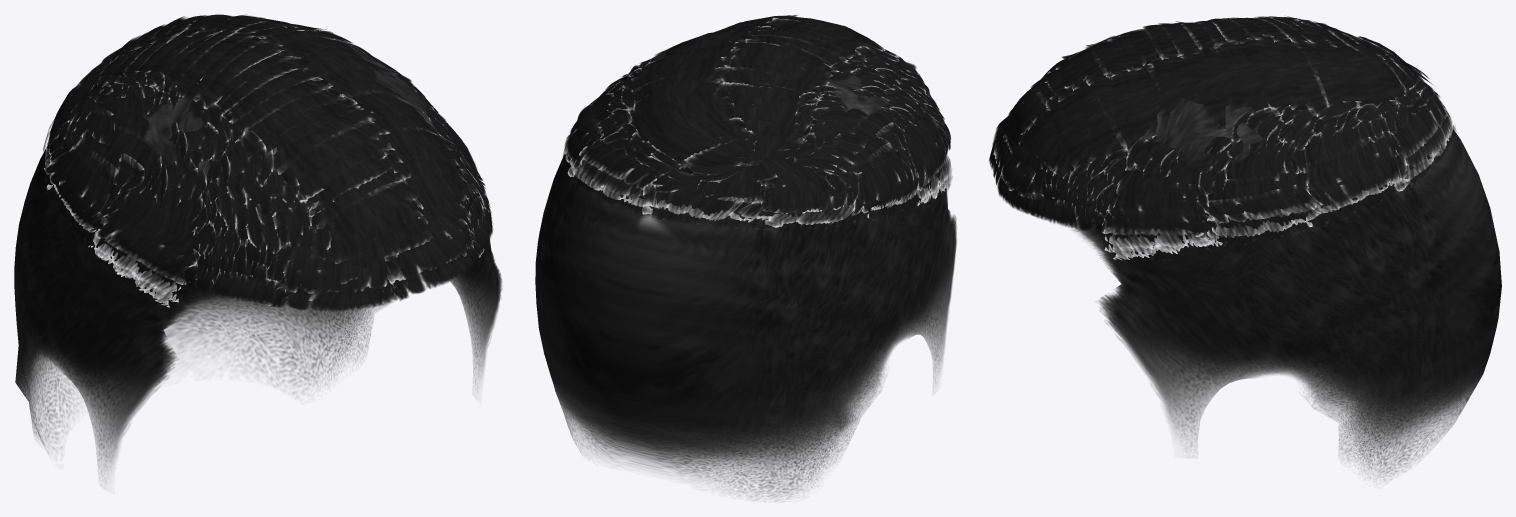
The model's file is Straight_Caesar.glb.
3 renders of one model, left to right at view 1: azimuth 30°, elevation 25°; view 2: azimuth 150°, elevation 25°; view 3: azimuth 270°, elevation 25°, orthographic. The views are drawn at different scales.
Parts seen in each view (by area): view 1: s4studio_mesh_4.001_geom.006, face.002_Plane.003; view 2: face.002_Plane.003, s4studio_mesh_4.001_geom.006; view 3: face.002_Plane.003, s4studio_mesh_4.001_geom.006.
Part boxes in pixels (x1,y1,x2,y2): s4studio_mesh_4.001_geom.006: [43, 14, 492, 311]; face.002_Plane.003: [14, 24, 502, 479]; face.002_Plane.003: [535, 51, 956, 500]; s4studio_mesh_4.001_geom.006: [562, 15, 952, 229]; face.002_Plane.003: [1031, 20, 1501, 480]; s4studio_mesh_4.001_geom.006: [989, 16, 1456, 262].
Size of the model in its own units: 0.1831 by 0.2057 by 0.2307.
Materials: 2 (2 with a texture image).
